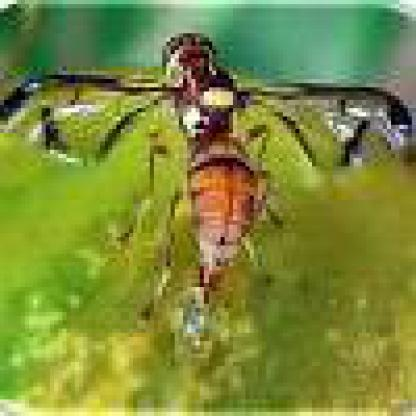fruit fly: (1, 31, 406, 309)
